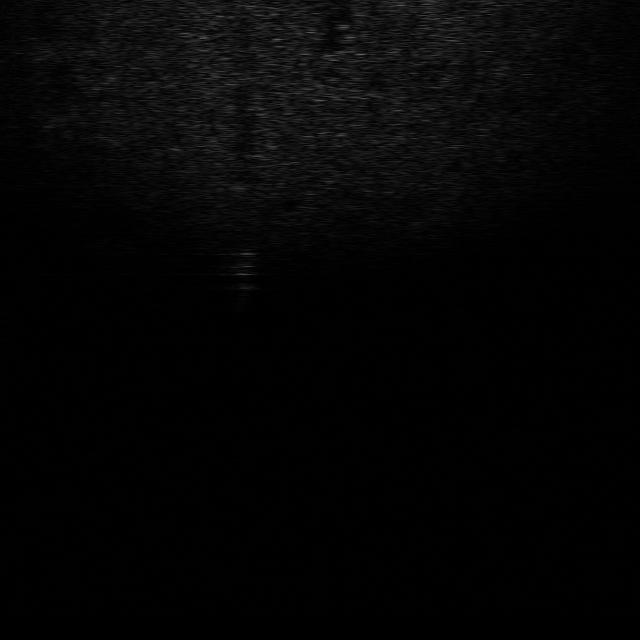human body: (225, 241, 257, 317)
